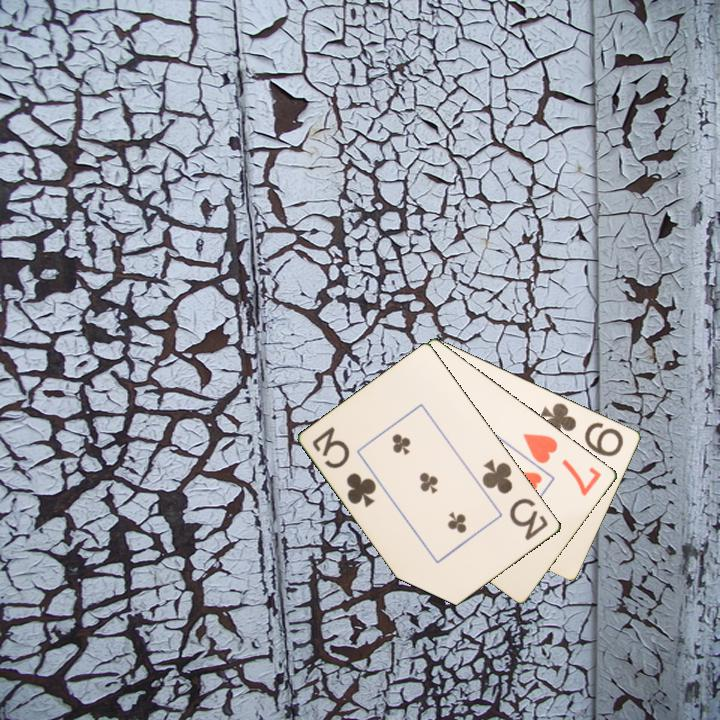3c: (479, 455, 551, 544), (309, 423, 380, 511)
7h: (519, 429, 605, 499)
9c: (537, 399, 627, 459)
